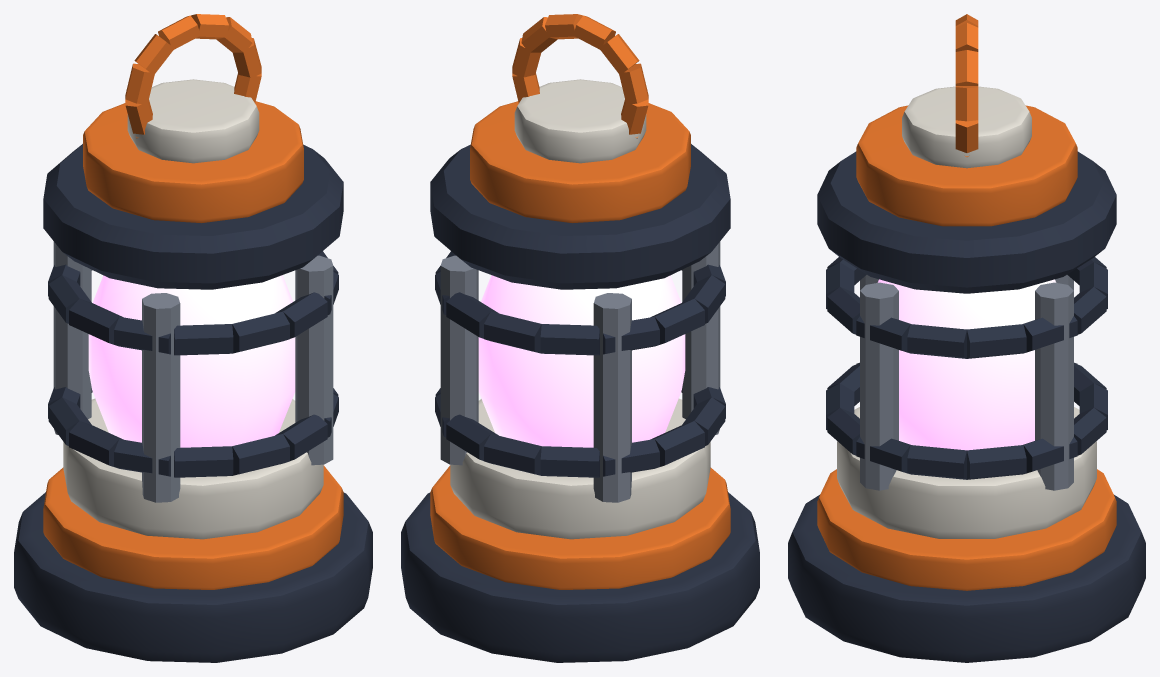
The model's file is sample_pod.fbx.
3 views of the same model, side by side, from view 1: azimuth 30°, elevation 25°; view 2: azimuth 150°, elevation 25°; view 3: azimuth 270°, elevation 25° (orthographic).
Visible parts, largest first — view 1: Casing, Glow; view 2: Casing, Glow; view 3: Casing, Glow.
Part boxes in pixels (x1,y1,x2,y2): Casing: [14, 14, 372, 662]; Glow: [88, 275, 295, 447]; Casing: [401, 14, 759, 662]; Glow: [478, 275, 685, 447]; Casing: [788, 14, 1145, 662]; Glow: [877, 279, 1056, 450].
Size of the model in its own units: 1.1 by 1.94 by 1.1.
Materials: 2 (1 with a texture image).
